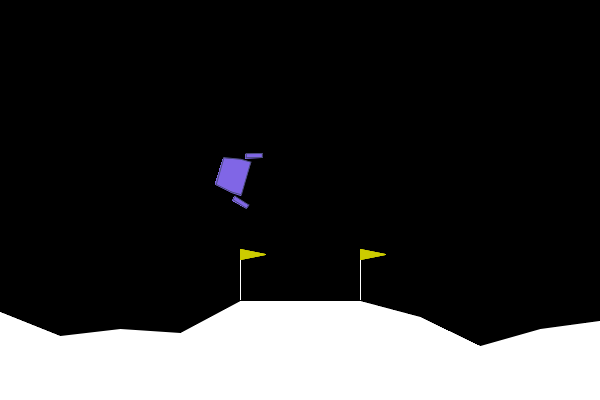lander: (209, 142, 264, 211)
